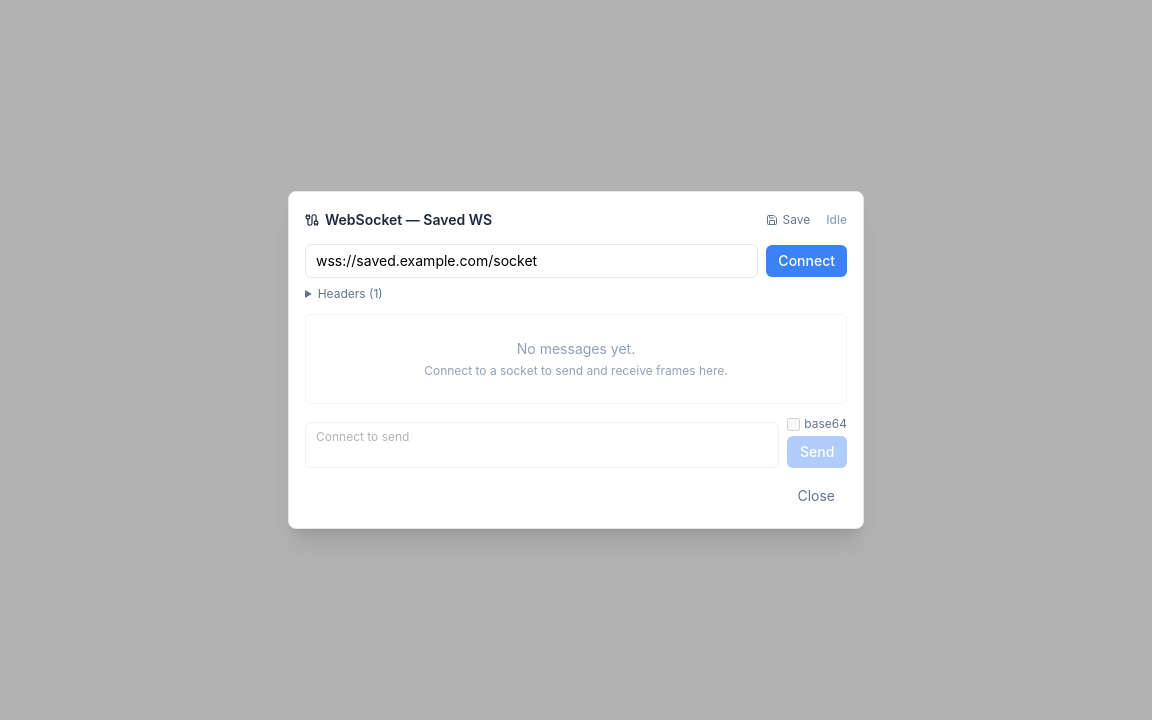
Test case: WsPanel › prefills url and headers from a saved request's streamConfig on reopen
The width and height of the screenshot is (1152, 720).
Check: the field with placeholder "wss://echo.websocket.org" holds "wss://saved.example.com/socket", box [305,244,758,278]
Check: the heading "WebSocket — Saved WS" is shown, box [305,210,492,230]
Click the heading "Headers (1)".
click(350, 294)  # box [318,286,383,301]
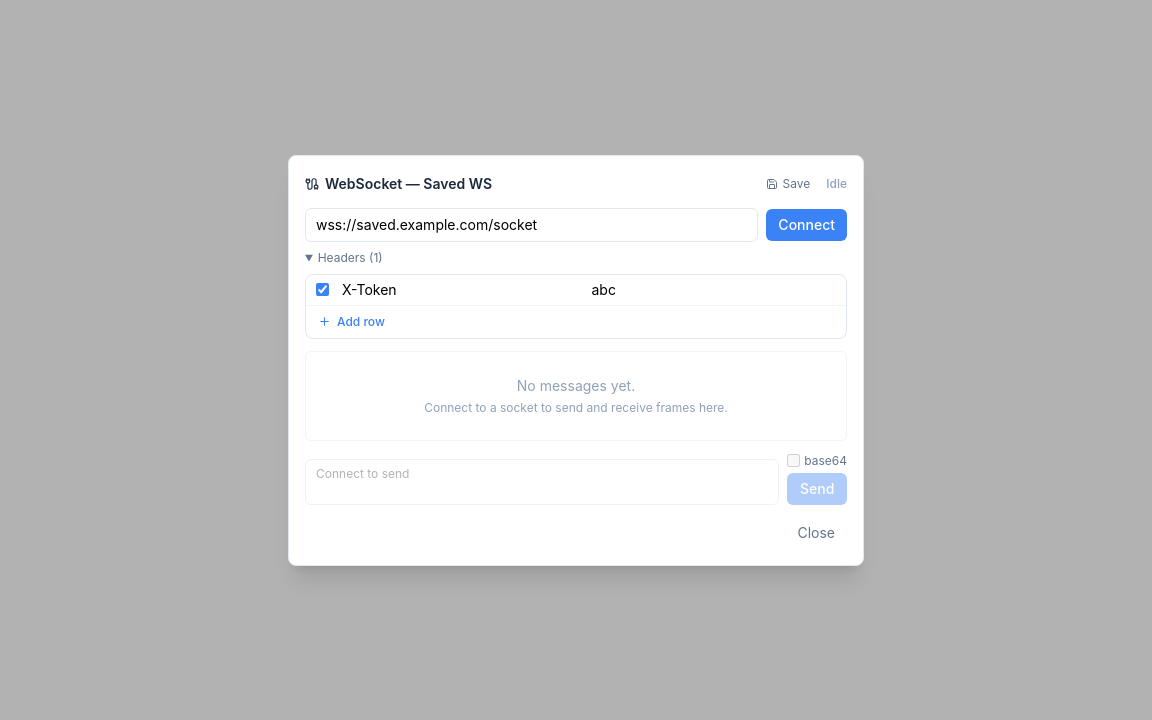
Check: the 2nd field showing "X-Token" is shown, box [333,274,578,304]
Check: the 3rd field showing "abc" is shown, box [582,274,810,304]
